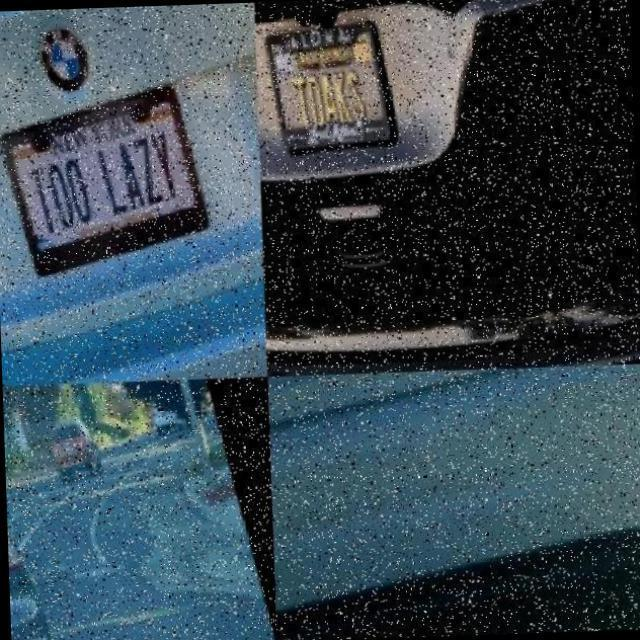License Plate: (0, 90, 203, 282), (256, 2, 396, 172), (278, 371, 414, 445), (10, 582, 30, 630), (62, 453, 70, 459)
